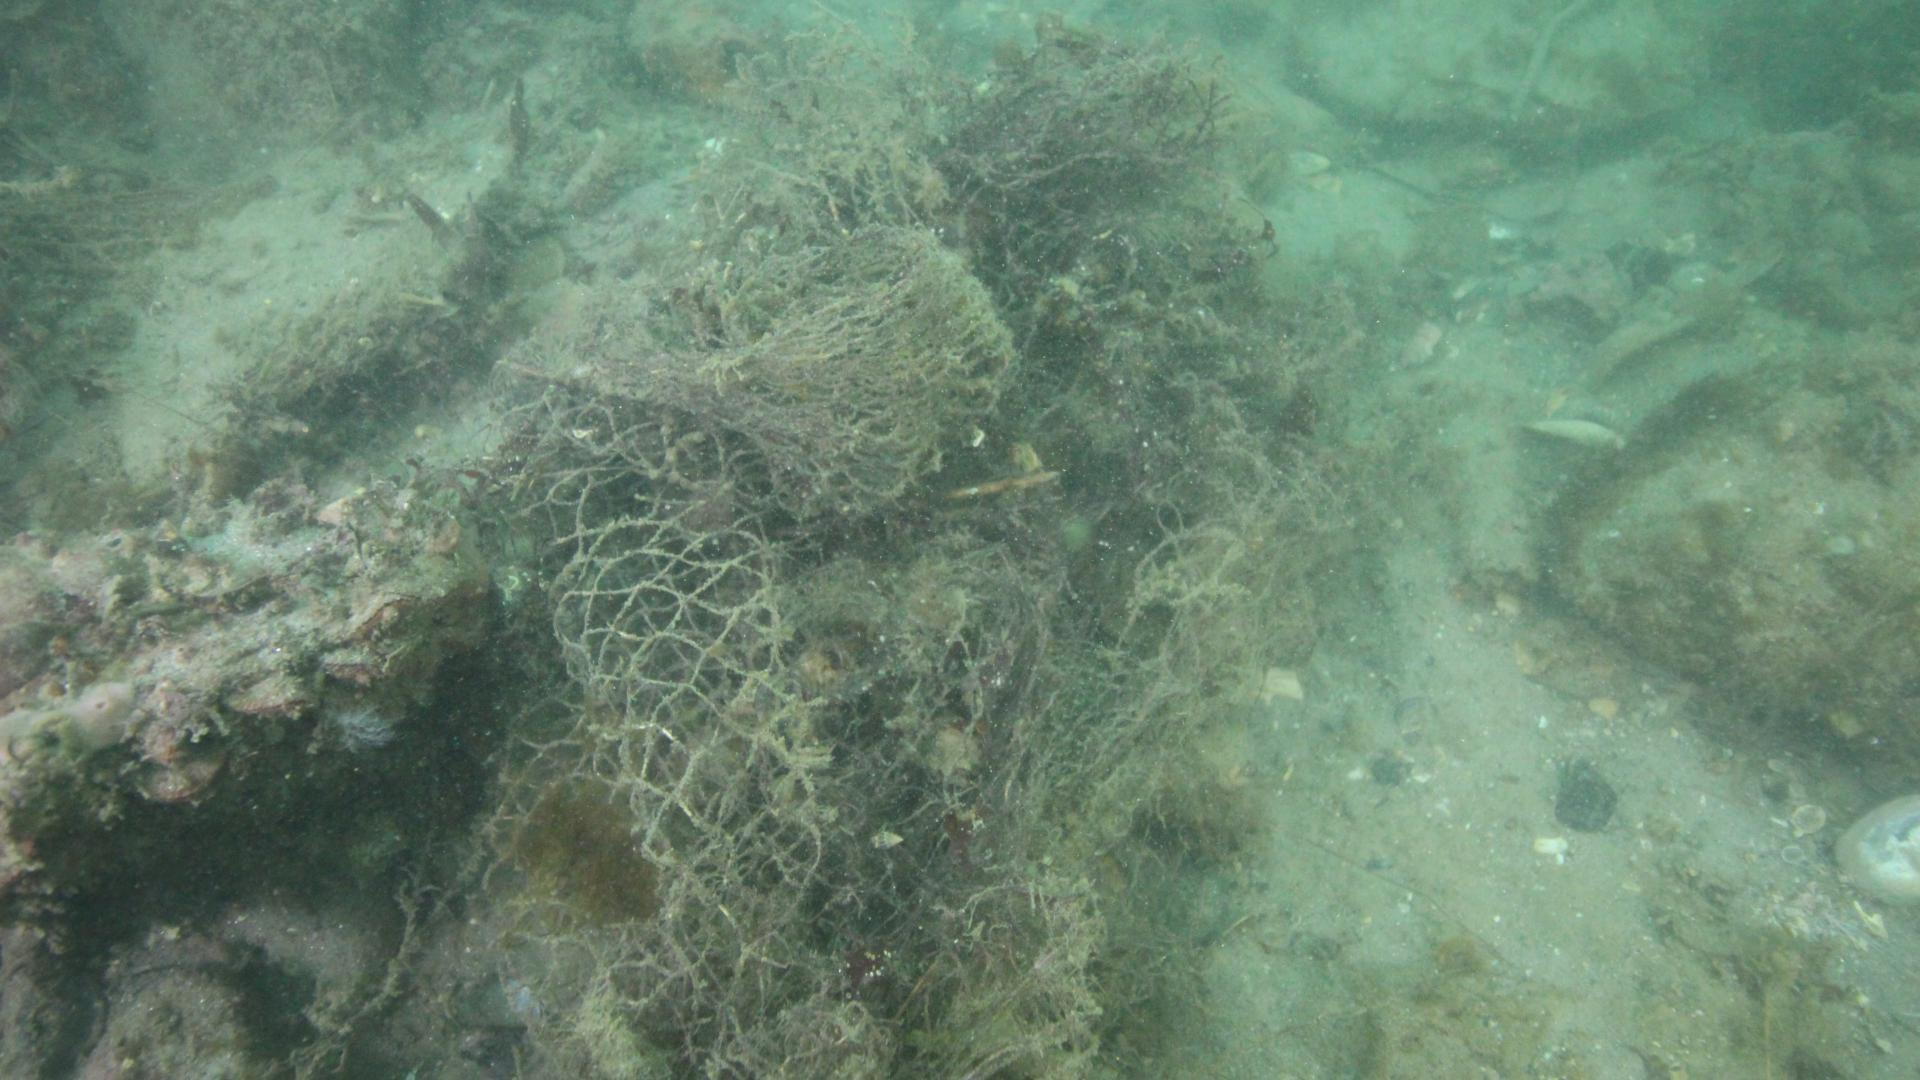fish net: (500, 400, 824, 1080)
